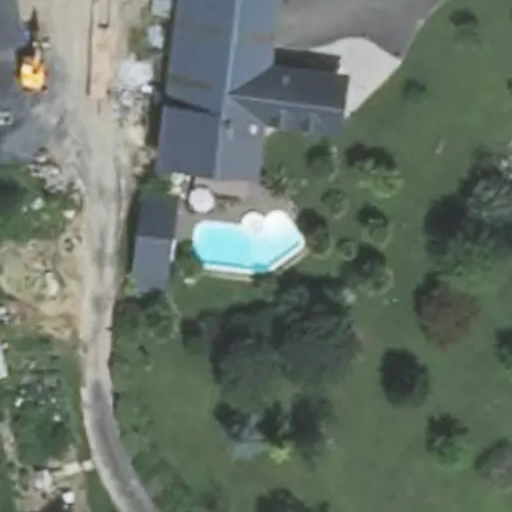pool: (193, 222, 316, 268)
